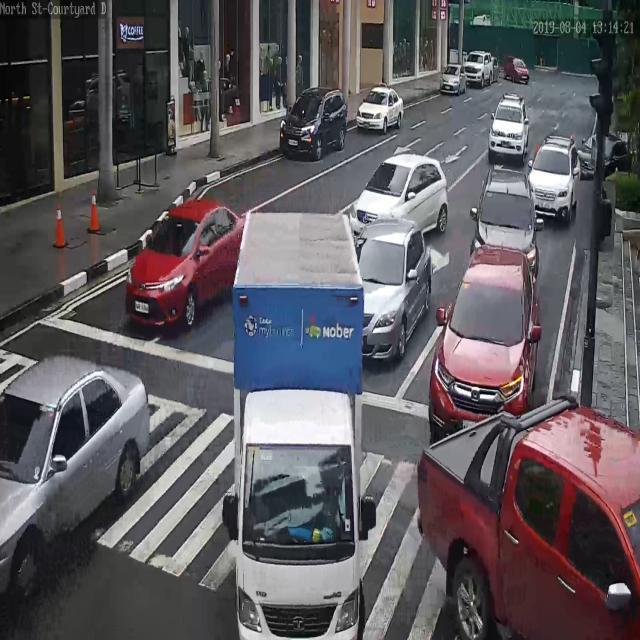car: (420, 399, 640, 640), (0, 354, 150, 608), (431, 245, 538, 443), (121, 193, 243, 332), (355, 219, 430, 363), (351, 153, 448, 239), (472, 166, 538, 279), (279, 86, 349, 162), (527, 138, 579, 226), (488, 95, 528, 159), (577, 132, 631, 179), (355, 85, 404, 133), (464, 50, 497, 86), (440, 64, 471, 96), (502, 54, 530, 81)
motorcycle: (222, 211, 364, 640)
